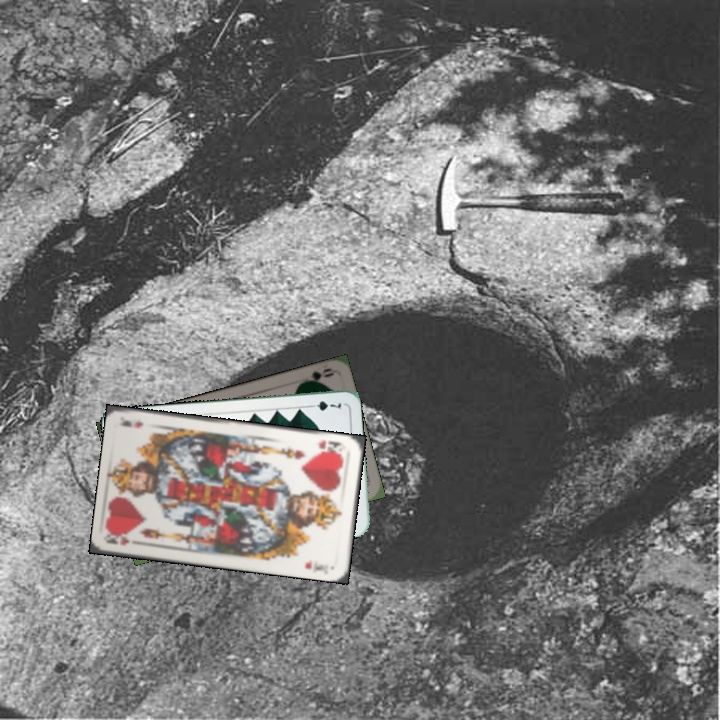G7: (304, 397, 344, 413)
GO: (296, 364, 335, 387)
HK: (105, 530, 146, 548), (314, 436, 348, 456)
